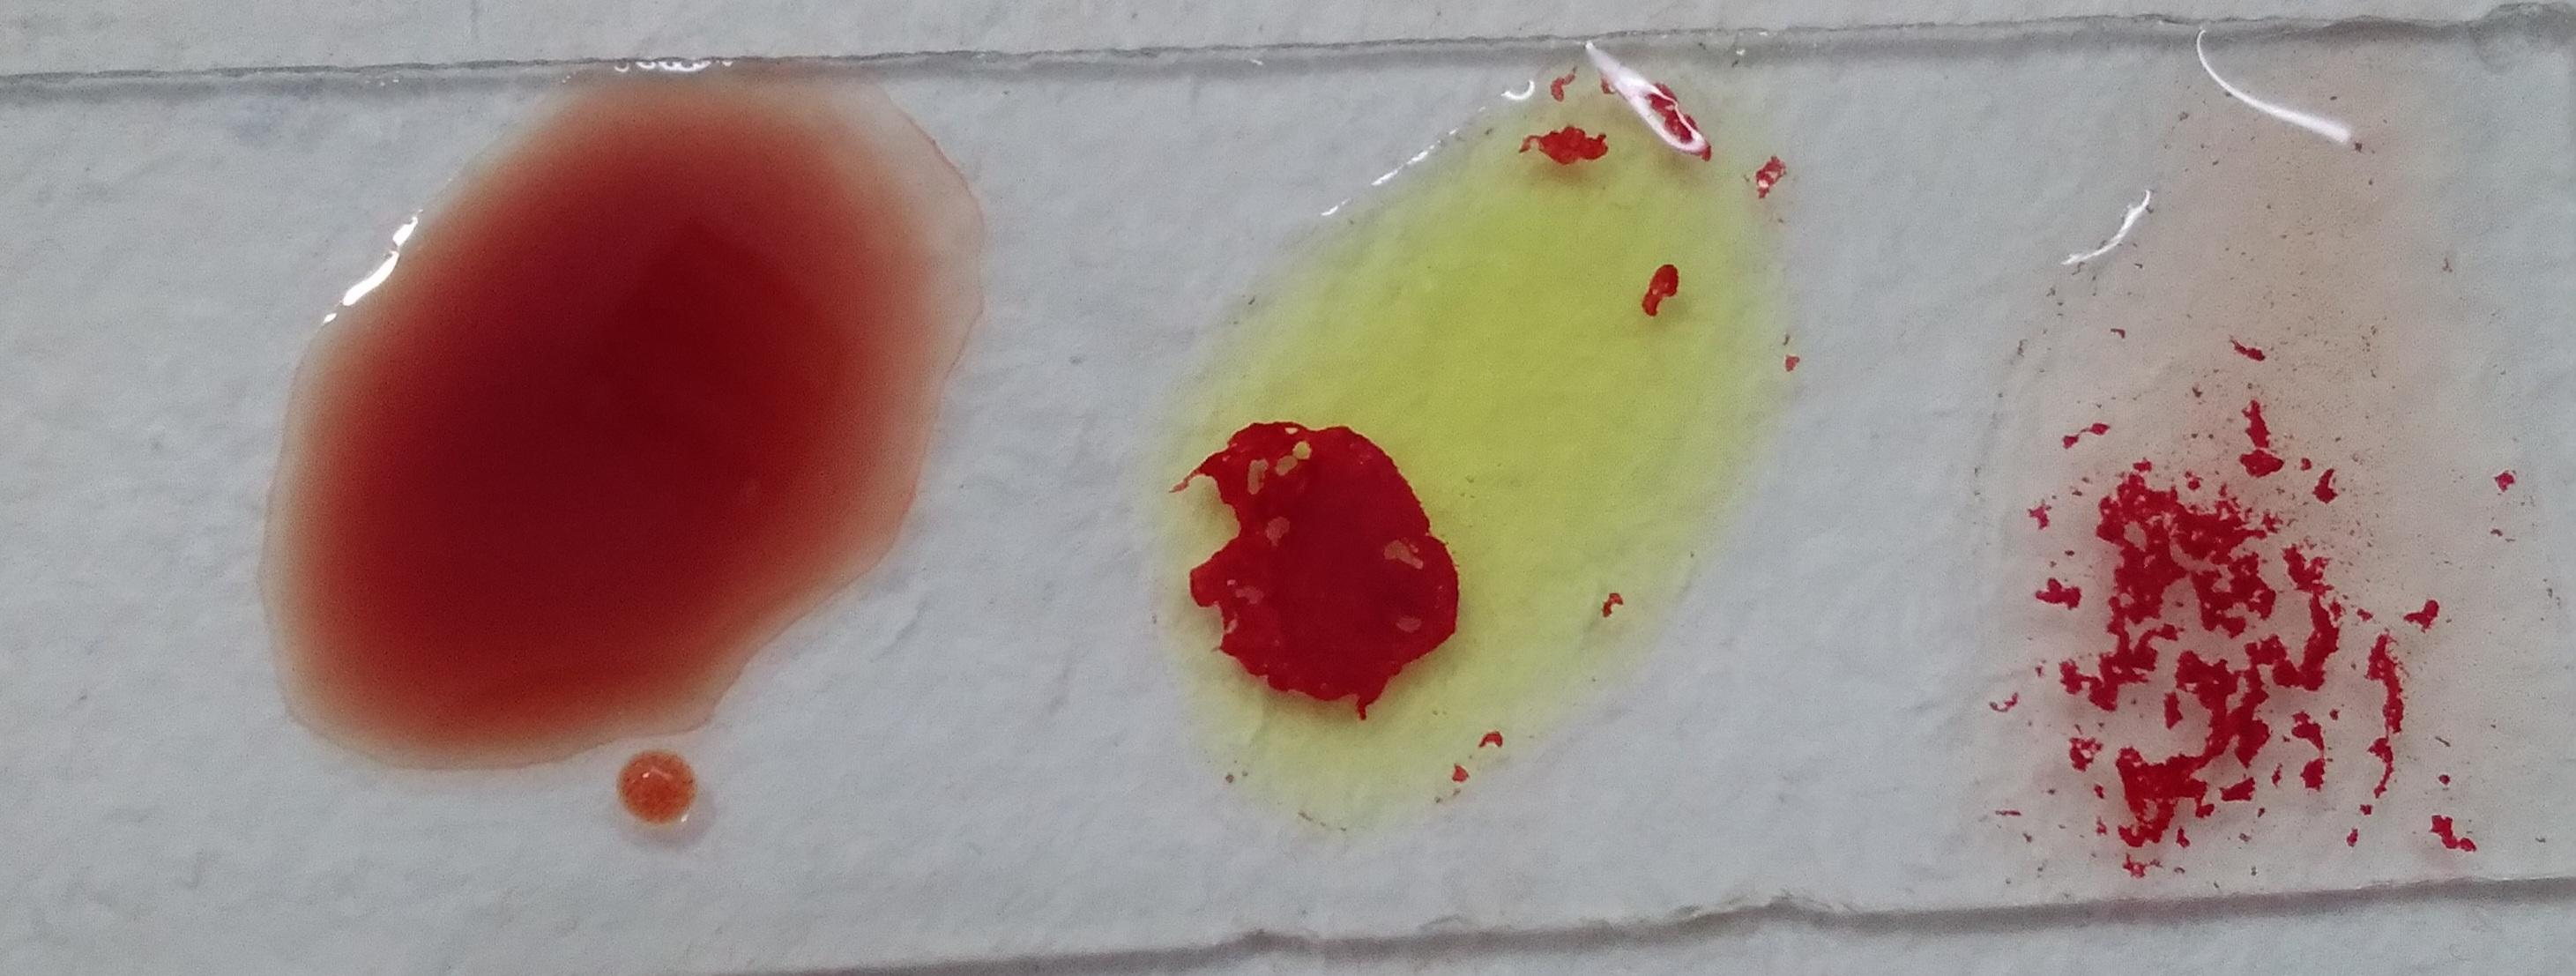B: (772, 125, 1426, 928)
D: (90, 85, 605, 866)
